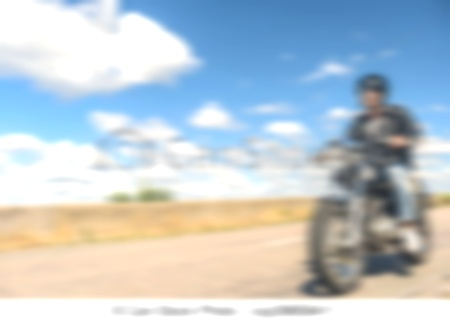Vehicle: (305, 133, 432, 294)
